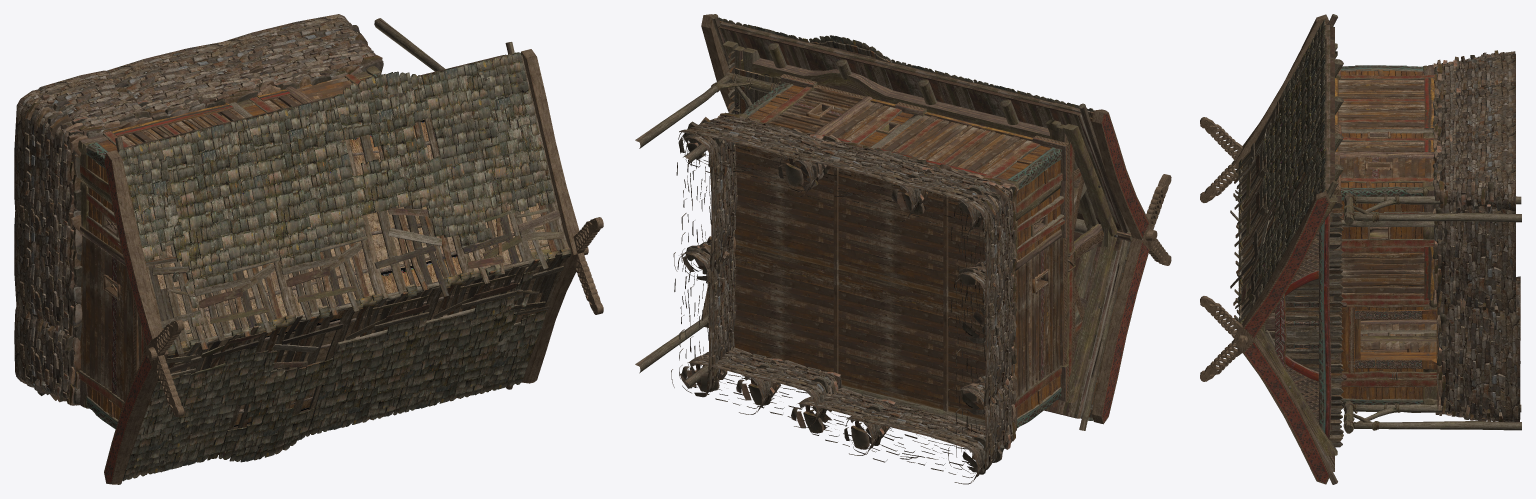
File: VIK_VIL_House_06A_G_001_Roof-transformed.glb
3 views of the same model, side by side, from view 1: azimuth 30°, elevation 25°; view 2: azimuth 150°, elevation 25°; view 3: azimuth 270°, elevation 25° (orthographic). The views are drawn at different scales.
Parts seen in each view (by area): view 1: VIK_VIL_House_06A_G_001_Roof; view 2: VIK_VIL_House_06A_G_001_Roof; view 3: VIK_VIL_House_06A_G_001_Roof.
Boxes of the visible parts, left/top/right/bottom form: VIK_VIL_House_06A_G_001_Roof: left=14, top=14, right=603, bottom=484; VIK_VIL_House_06A_G_001_Roof: left=635, top=14, right=1171, bottom=484; VIK_VIL_House_06A_G_001_Roof: left=1200, top=14, right=1521, bottom=484.
Size of the model in its own units: 0.1499 by 0.1164 by 0.1095.
Materials: 17 (17 with a texture image).
